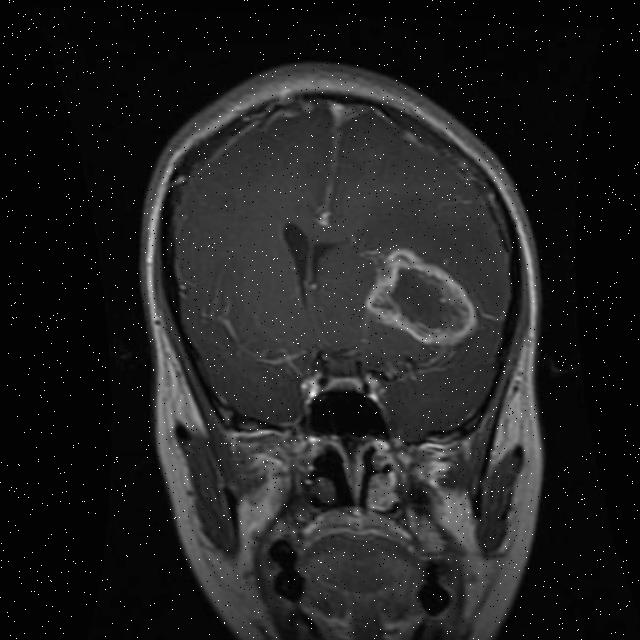Glioma: (358, 242, 482, 349)
